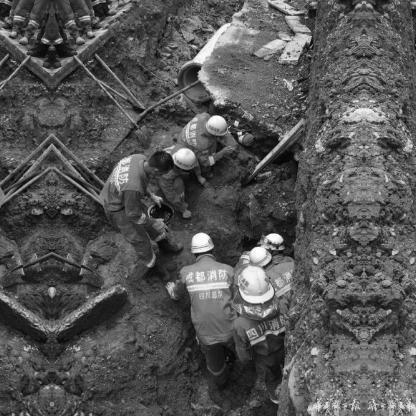helmet: (236, 267, 271, 306), (169, 146, 200, 174), (188, 230, 216, 257), (201, 114, 230, 140), (261, 231, 285, 257), (247, 245, 272, 268)
